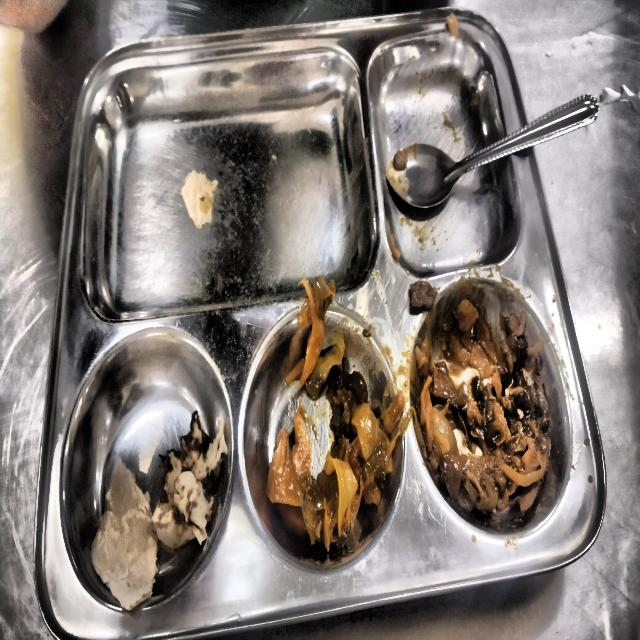Daal-pulse: (411, 299, 549, 494), (266, 331, 390, 539)
